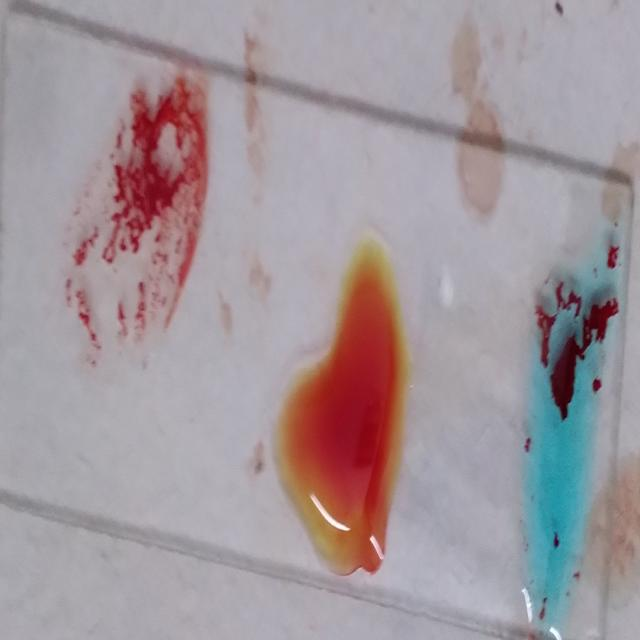A: (520, 223, 620, 592)
D: (70, 75, 200, 348)
